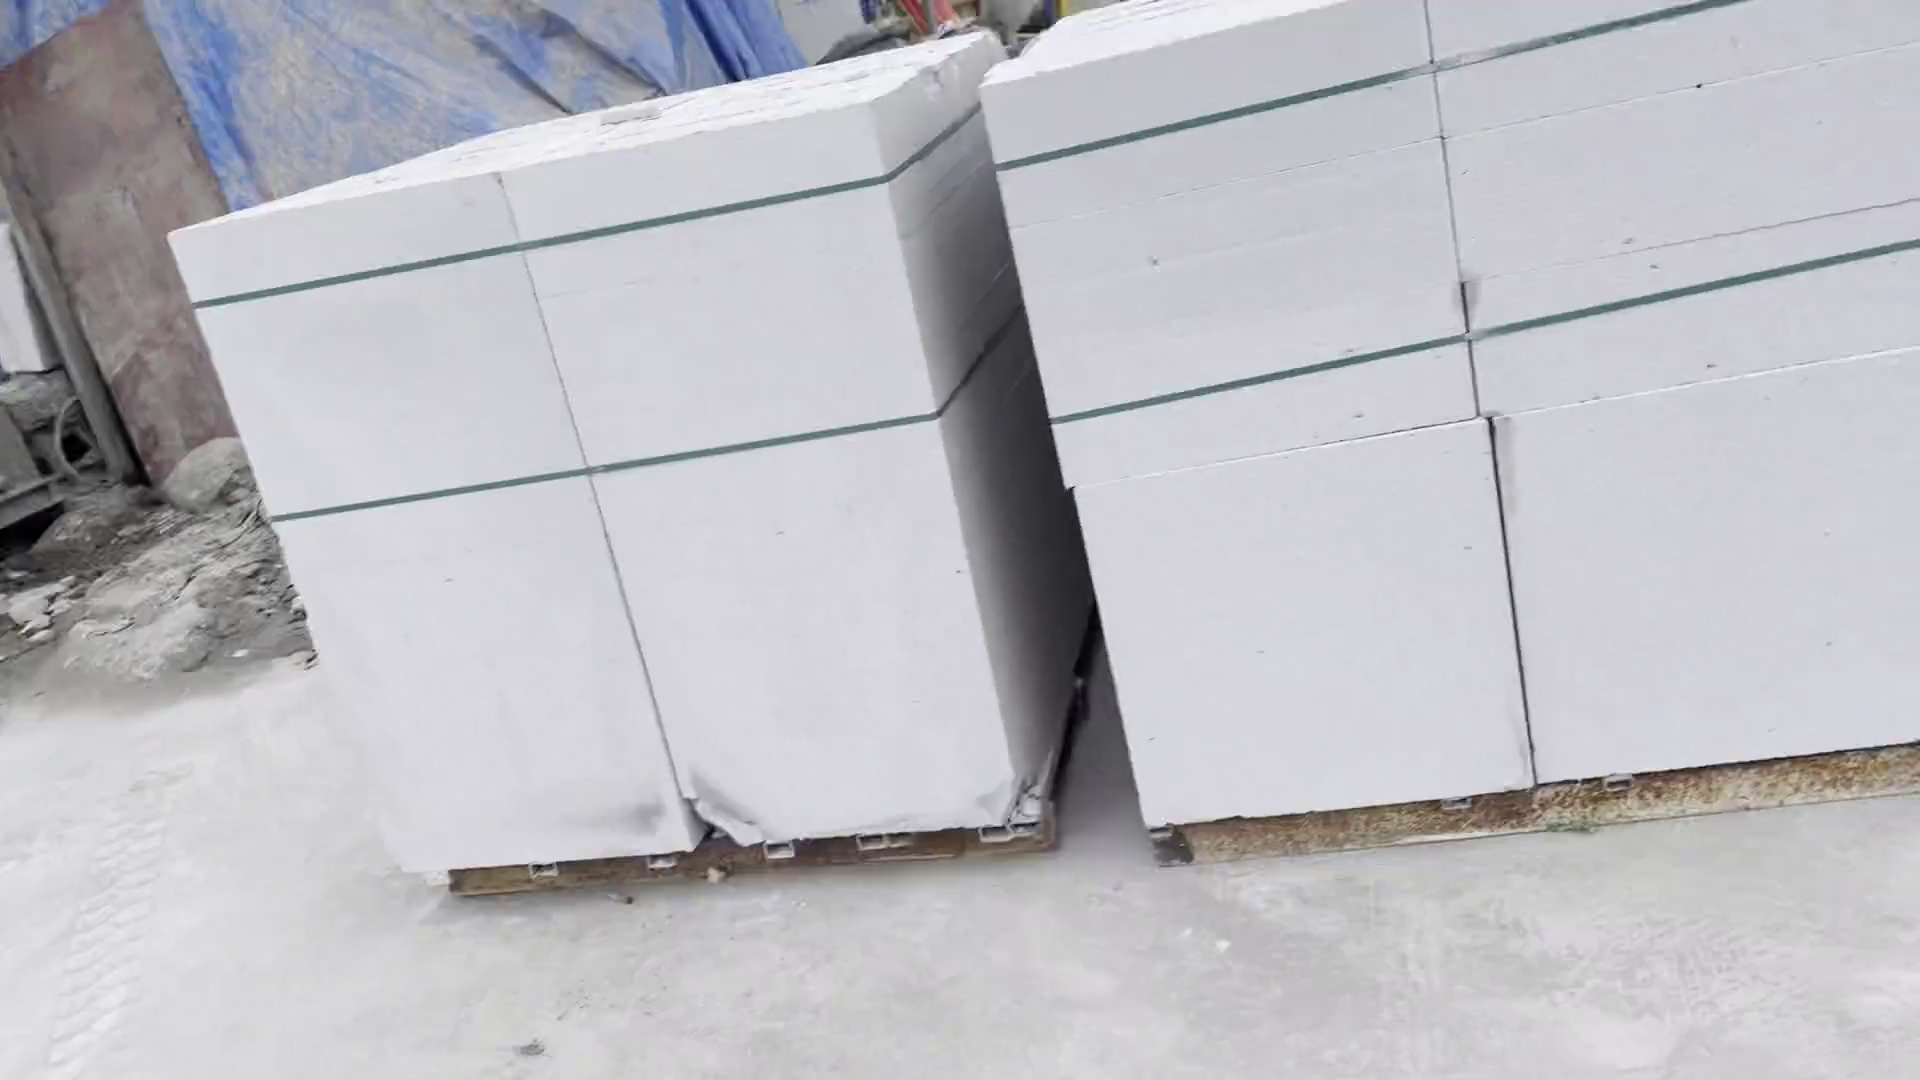brick: (977, 1, 1920, 866), (142, 26, 1064, 884)
